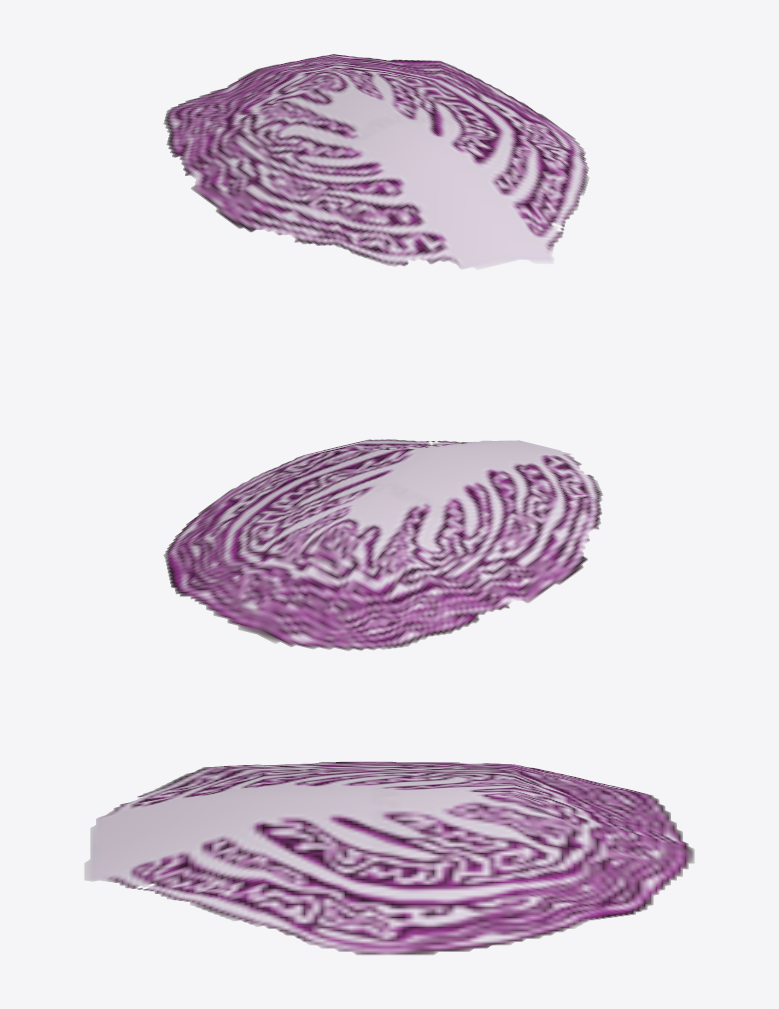
File: col.fbx
3 renders of one model, top to bottom at view 1: azimuth 30°, elevation 25°; view 2: azimuth 150°, elevation 25°; view 3: azimuth 270°, elevation 25°, orthographic. The views are drawn at different scales.
Parts seen in each view (by area): view 1: Plane002; view 2: Plane002; view 3: Plane002.
Boxes of the visible parts, bbox=[...] form: Plane002: bbox=[163, 54, 589, 269]; Plane002: bbox=[163, 439, 603, 651]; Plane002: bbox=[84, 761, 694, 955].
Size of the model in its own units: 0.15 by 0.0231 by 0.2.
Materials: 1 (1 with a texture image).
